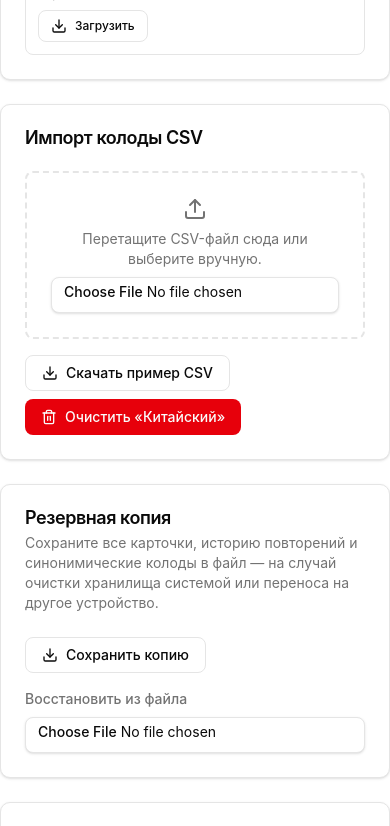
Test: ImportPage › shows an error if clearAll throws after confirming
The image size is (390, 826).
(page scrolled)
Click the button "Очистить «Китайский»" at [133, 417], box [25, 399, 241, 435]
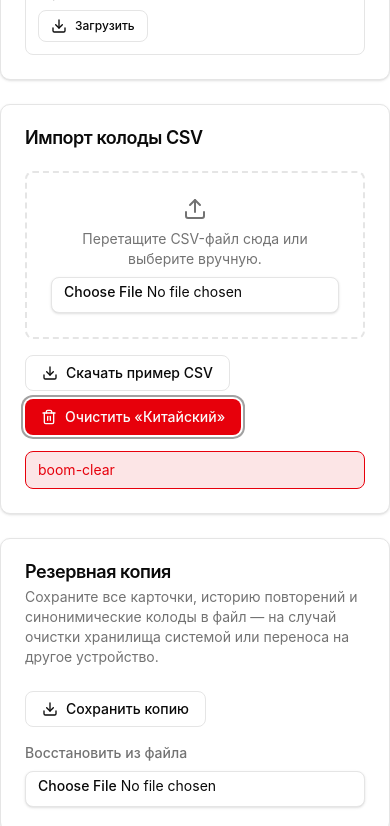
Now the text "boom-clear" is shown, box [25, 451, 365, 489]
